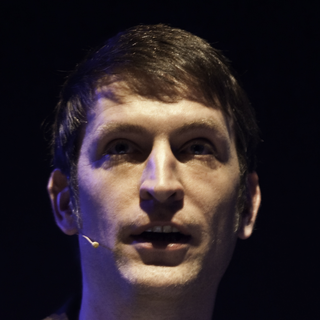eye: (95, 135, 143, 162), (179, 136, 219, 161)
